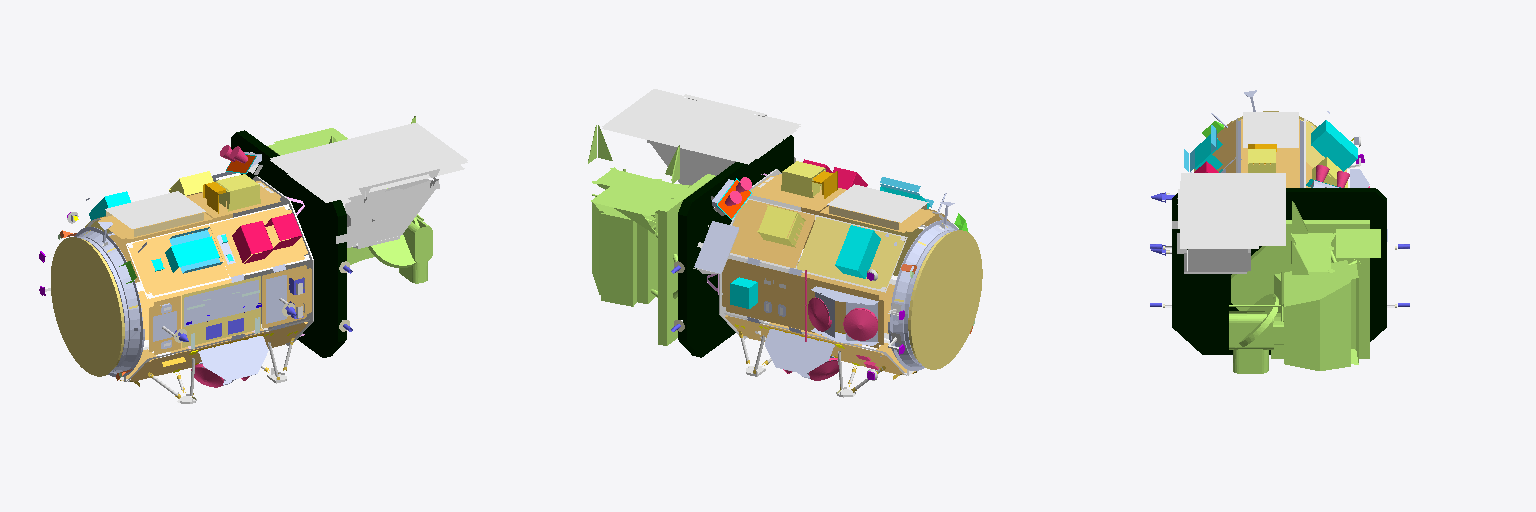
The model's file is LDCM_MainBody.obj.
3 views of the same model, side by side, from view 1: azimuth 30°, elevation 25°; view 2: azimuth 150°, elevation 25°; view 3: azimuth 270°, elevation 25° (orthographic).
Parts seen in each view (by area): view 1: Bus, TIRS, OLI; view 2: Bus, OLI, TIRS; view 3: Bus, OLI, TIRS.
Part boxes in pixels (x1,y1,x2,y2): Bus: (39,130,352,403); TIRS: (270,123,467,248); OLI: (267,116,432,283); Bus: (671,135,982,397); OLI: (588,125,715,345); TIRS: (602,89,800,184); Bus: (1150,90,1409,354); OLI: (1229,201,1380,373); TIRS: (1177,173,1285,273).
Size of the model in its own units: 4.77 by 2.48 by 3.07.